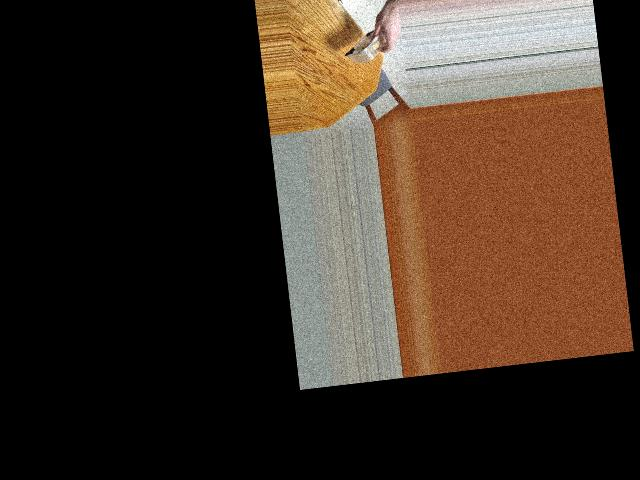cheese: (344, 13, 394, 70)
